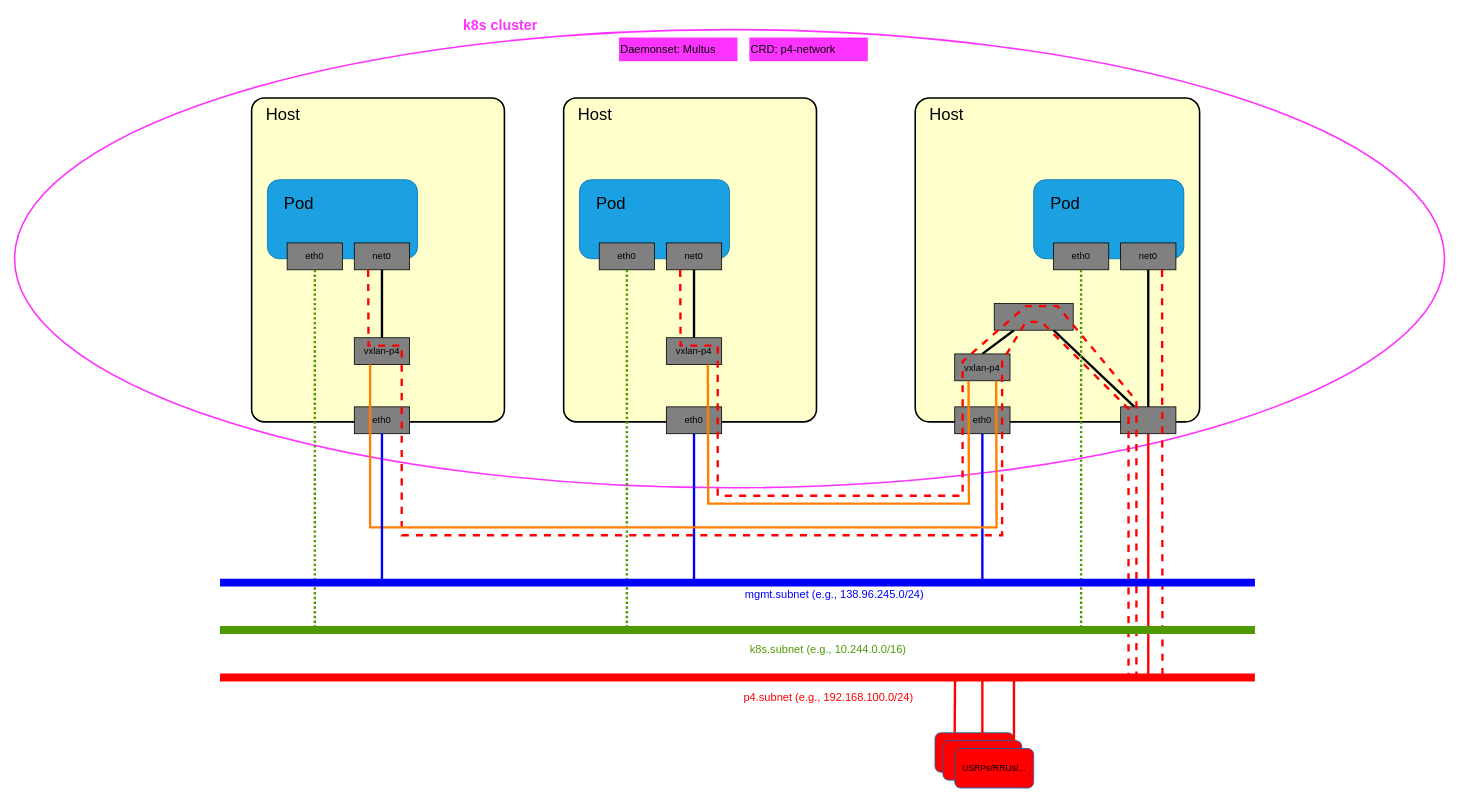
Some shapes in this 1458 by 802 pixel diagram are drawn without their labels. The shapes that lost their labels are listed below. From the top down, each one's box as (x1, y1, x2, y2) in pixels, then its label:
(993, 303, 1073, 330): br-p4
(1120, 406, 1176, 434): team0
